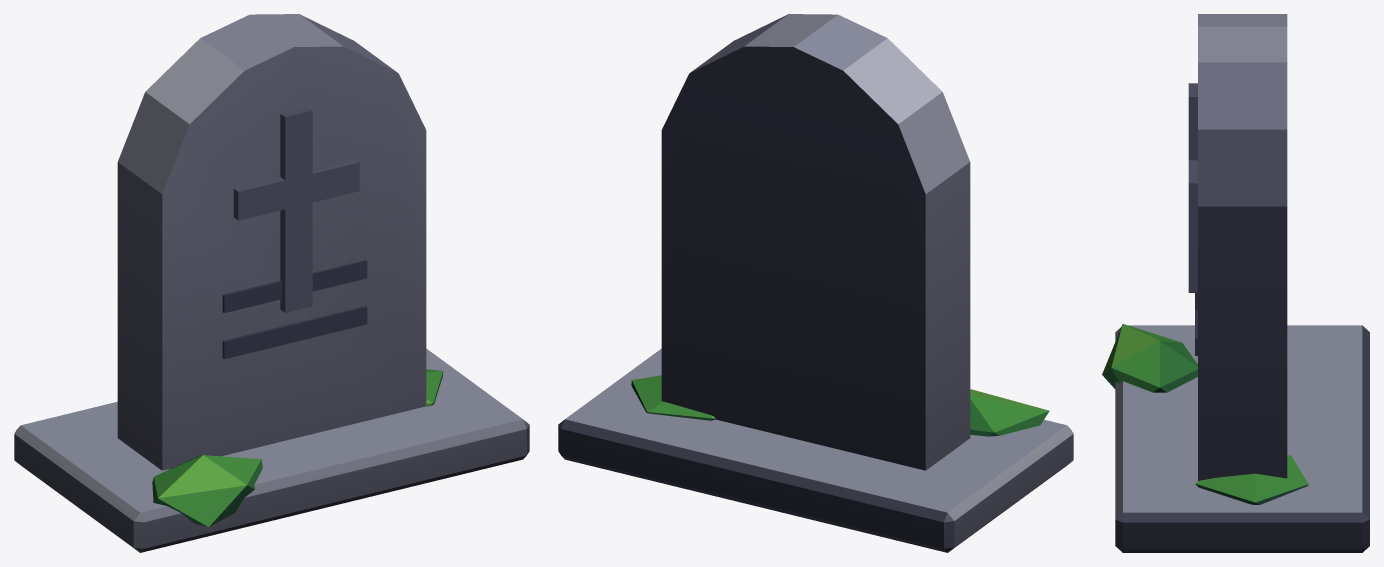
The model's file is grave_a.glb.
3 renders of one model, left to right at view 1: azimuth 30°, elevation 25°; view 2: azimuth 150°, elevation 25°; view 3: azimuth 270°, elevation 25°, orthographic.
Parts seen in each view (by area): view 1: grave_a; view 2: grave_a; view 3: grave_a.
Part boxes in pixels (left/top/right/bottom): grave_a: left=14, top=14, right=529, bottom=552; grave_a: left=558, top=14, right=1073, bottom=552; grave_a: left=1102, top=14, right=1369, bottom=552.
Size of the model in its own units: 0.72 by 0.75 by 0.421.
